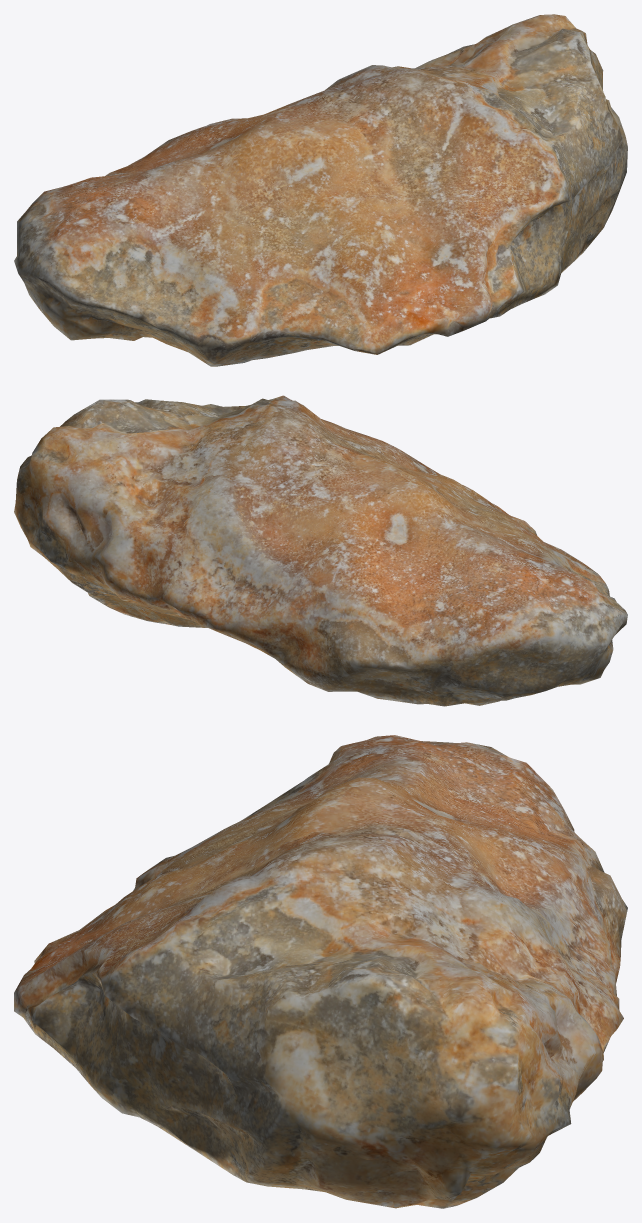
Rendered from Artifact3.glb.
The picture shows the model from 3 angles, top to bottom: view 1: azimuth 30°, elevation 25°; view 2: azimuth 150°, elevation 25°; view 3: azimuth 270°, elevation 25°; orthographic projection. The views are drawn at different scales.
Parts seen in each view (by area): view 1: Object_2; view 2: Object_2; view 3: Object_2.
Boxes of the visible parts, box(x1,y1,x2,y2) form: Object_2: box(14, 14, 627, 366); Object_2: box(14, 395, 627, 706); Object_2: box(14, 735, 627, 1208).
Bounding box in the file's own units: 1.52 × 0.4953 × 0.9741.
Materials: 1 (1 with a texture image).
